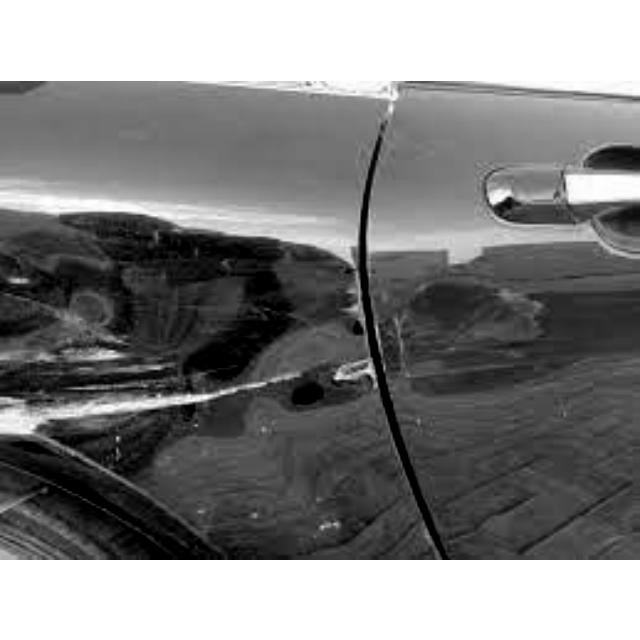quaterpanel-dent: (1, 203, 366, 451)
